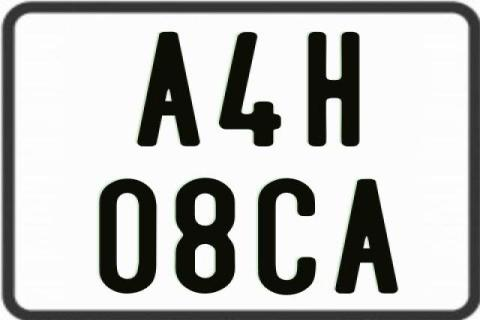0: (174, 177, 239, 297), (219, 31, 286, 147), (96, 177, 155, 297)
A: (137, 32, 204, 150), (333, 179, 399, 295)
C: (257, 177, 317, 295)
H: (305, 32, 361, 150)
